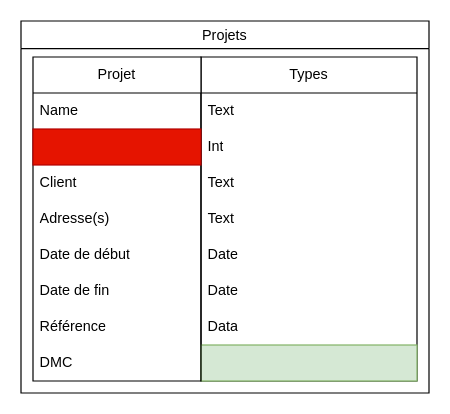
Some shapes in this 450 by 414 pixel diagram are drawn without their labels. Here are the shapes that lost their labels. From the top down, the box of each, then its label:
(32, 128, 201, 165): Code_projet
(200, 344, 417, 381): Link : DMC
